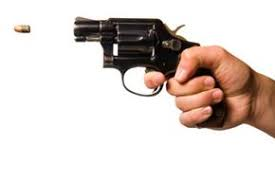gun: (74, 13, 205, 104)
